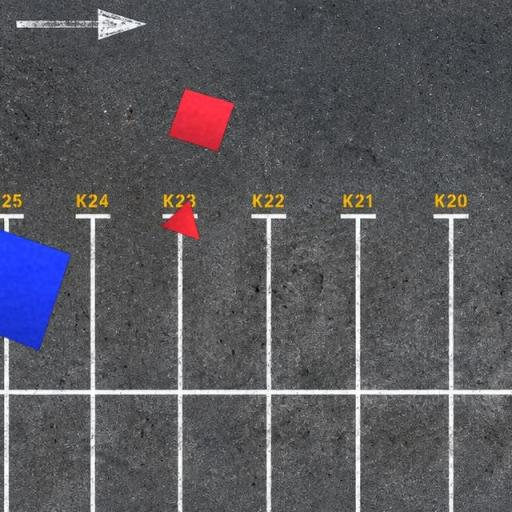BLUE_SQUARE: (0, 219, 72, 351)
RED_SQUARE: (167, 88, 235, 153)
